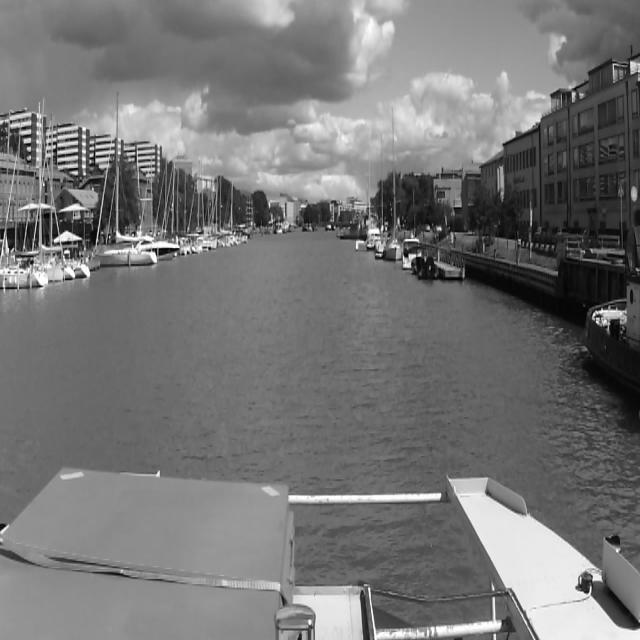ship: (94, 87, 158, 266), (0, 117, 46, 289), (585, 266, 640, 402), (385, 106, 401, 260), (375, 133, 384, 255), (335, 220, 361, 242), (418, 255, 438, 281), (402, 238, 416, 271)
